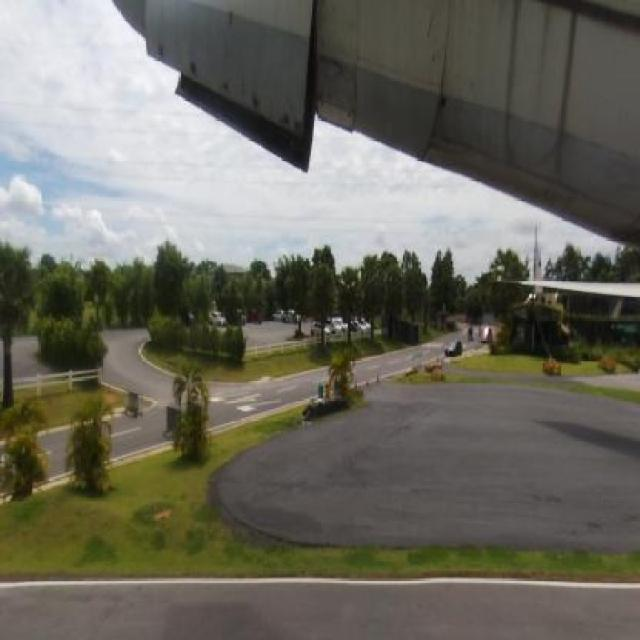Rust: (419, 57, 486, 175), (489, 1, 533, 178), (546, 1, 583, 194), (315, 34, 362, 104), (274, 101, 303, 148), (153, 38, 173, 72), (248, 82, 263, 115), (186, 55, 200, 87), (217, 73, 232, 102)
